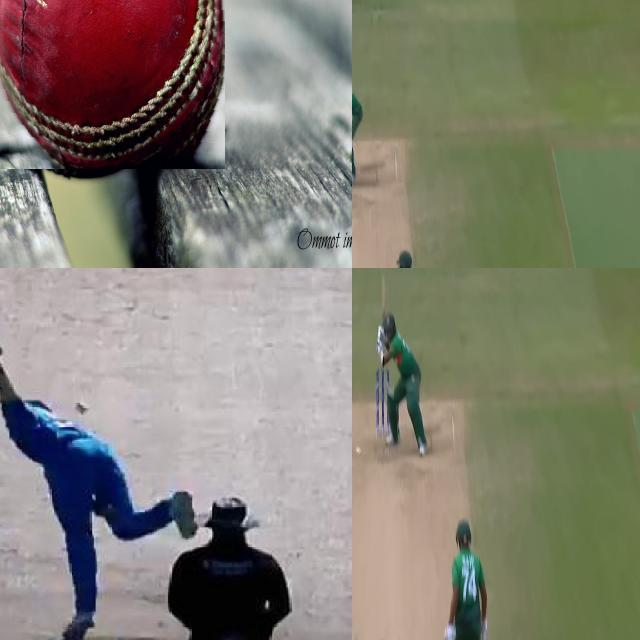Cricket ball: (0, 0, 225, 168), (74, 398, 90, 416), (356, 446, 362, 456)
Stumps: (376, 366, 390, 439)
